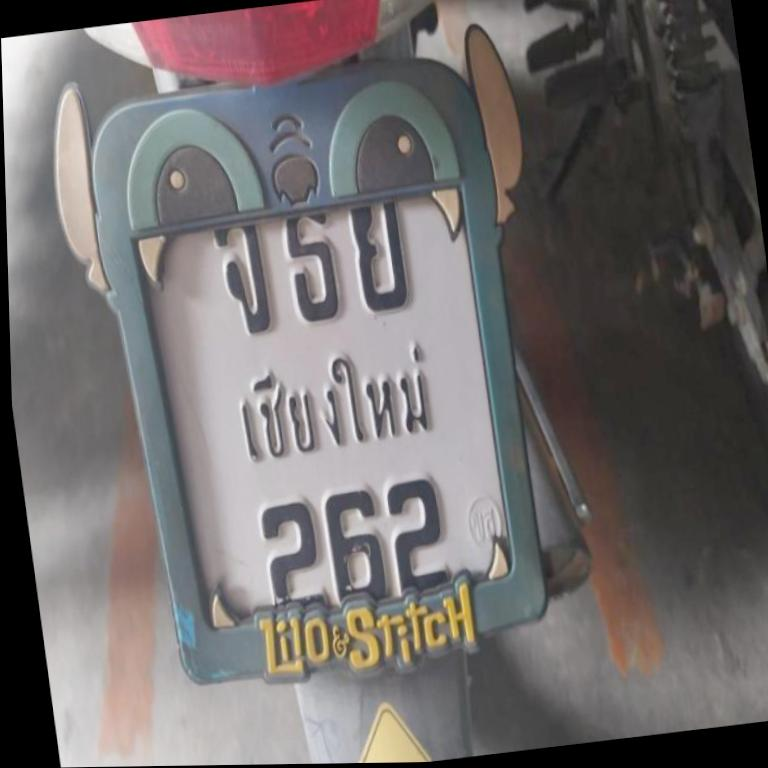license plate: (63, 41, 571, 707)
